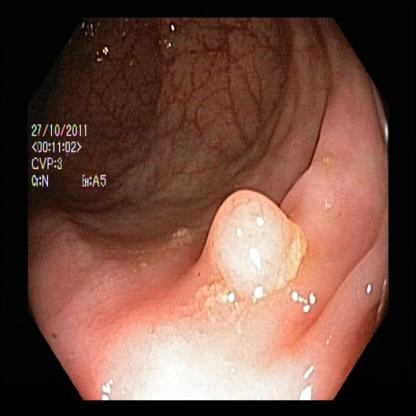Labels: (27, 117, 109, 197)
Polyps: (209, 166, 310, 300)
